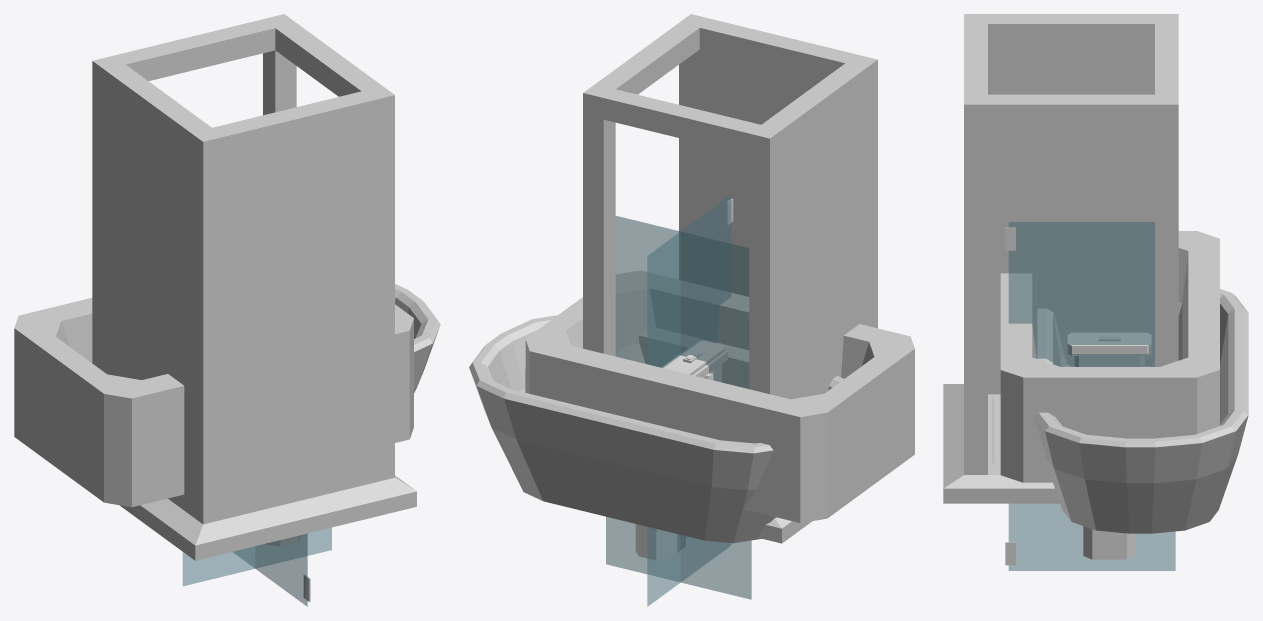
File: Low Poly Bathroom .fbx
The picture shows the model from 3 angles, left to right: view 1: azimuth 30°, elevation 25°; view 2: azimuth 150°, elevation 25°; view 3: azimuth 270°, elevation 25°; orthographic projection. The views are drawn at different scales.
Parts seen in each view (by area): view 1: Cube, Cube.007, Cube.001, Cube.002, Cube.004; view 2: Cube, Cube.007, Cube.004, Cube.001, Cube.002, Plane.004, Cube.013; view 3: Cube, Cube.002, Cube.007, Cube.004, Cube.013, Plane.004.
Boxes of the visible parts, x1,y1,x2,y2 form: Cube: [92, 14, 416, 560]; Cube.007: [14, 298, 413, 507]; Cube.001: [182, 527, 331, 586]; Cube.002: [233, 533, 310, 606]; Cube.004: [395, 284, 440, 392]; Cube: [583, 14, 877, 543]; Cube.007: [525, 270, 914, 522]; Cube.004: [469, 315, 843, 543]; Cube.001: [606, 216, 751, 599]; Cube.002: [647, 195, 733, 606]; Plane.004: [635, 371, 714, 560]; Cube.013: [662, 340, 725, 375]; Cube: [943, 14, 1178, 503]; Cube.002: [1005, 222, 1175, 570]; Cube.007: [1000, 231, 1219, 482]; Cube.004: [1034, 289, 1248, 533]; Cube.013: [1067, 332, 1151, 366]; Plane.004: [1083, 526, 1135, 559].
Size of the model in its own units: 385 by 503 by 281.
